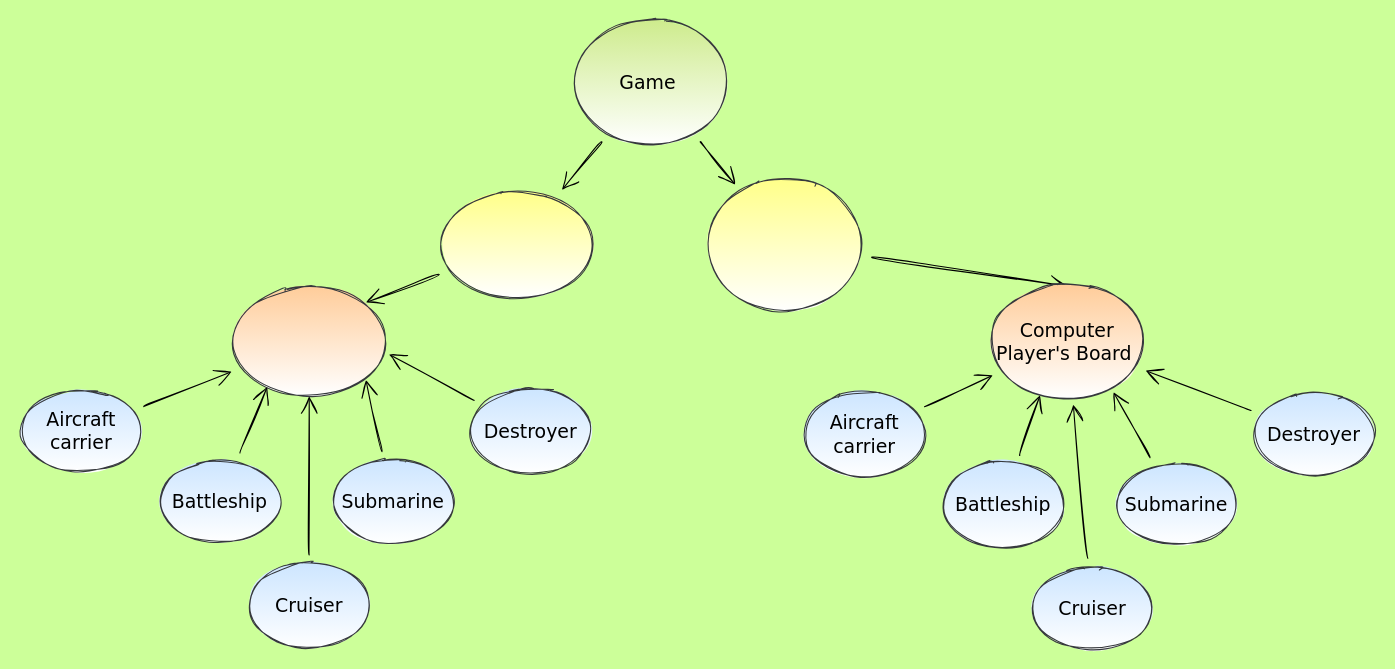
This 1395x669 diagram has some shape labels left out. Here are the shapes that lost their labels. From the top down, the box of each, then its label:
(436, 188, 597, 300): Human Player
(703, 180, 865, 308): computer Player
(228, 285, 389, 396): Human Player's Board
